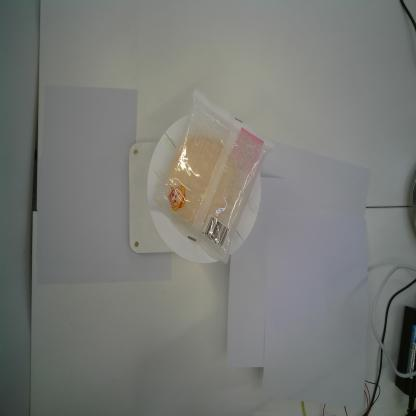Dessert: (144, 86, 278, 266)
